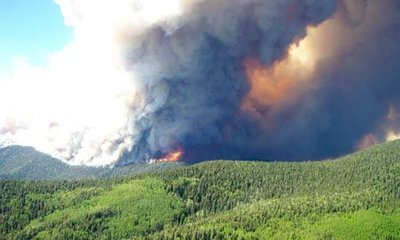fire: (153, 151, 183, 163)
yanwu: (1, 0, 400, 164)
